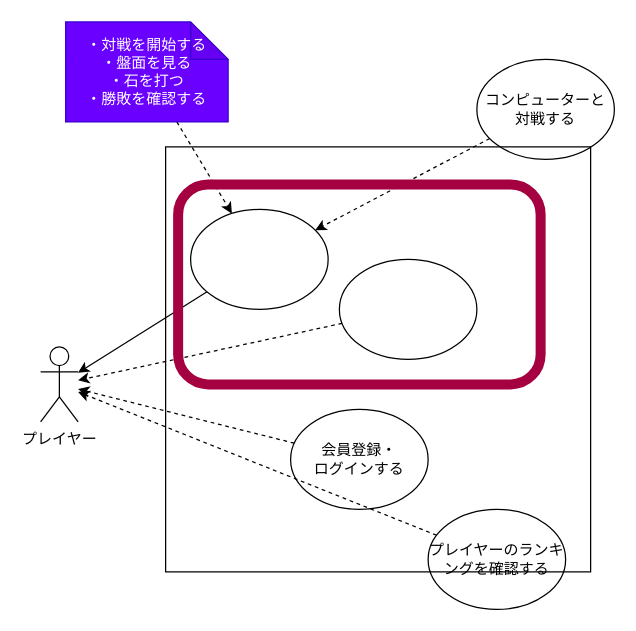
The diagram is 636 pixels wide and 631 high, and some of its shapes have lost their labels. The box of each missing label's shape, as (x1, y1, x2, y2) in pixels:
リバーシ アプリケーション: (164, 146, 591, 572)
対戦する: (189, 208, 328, 309)
自分の過去の対戦結果を確認する: (338, 258, 477, 359)
